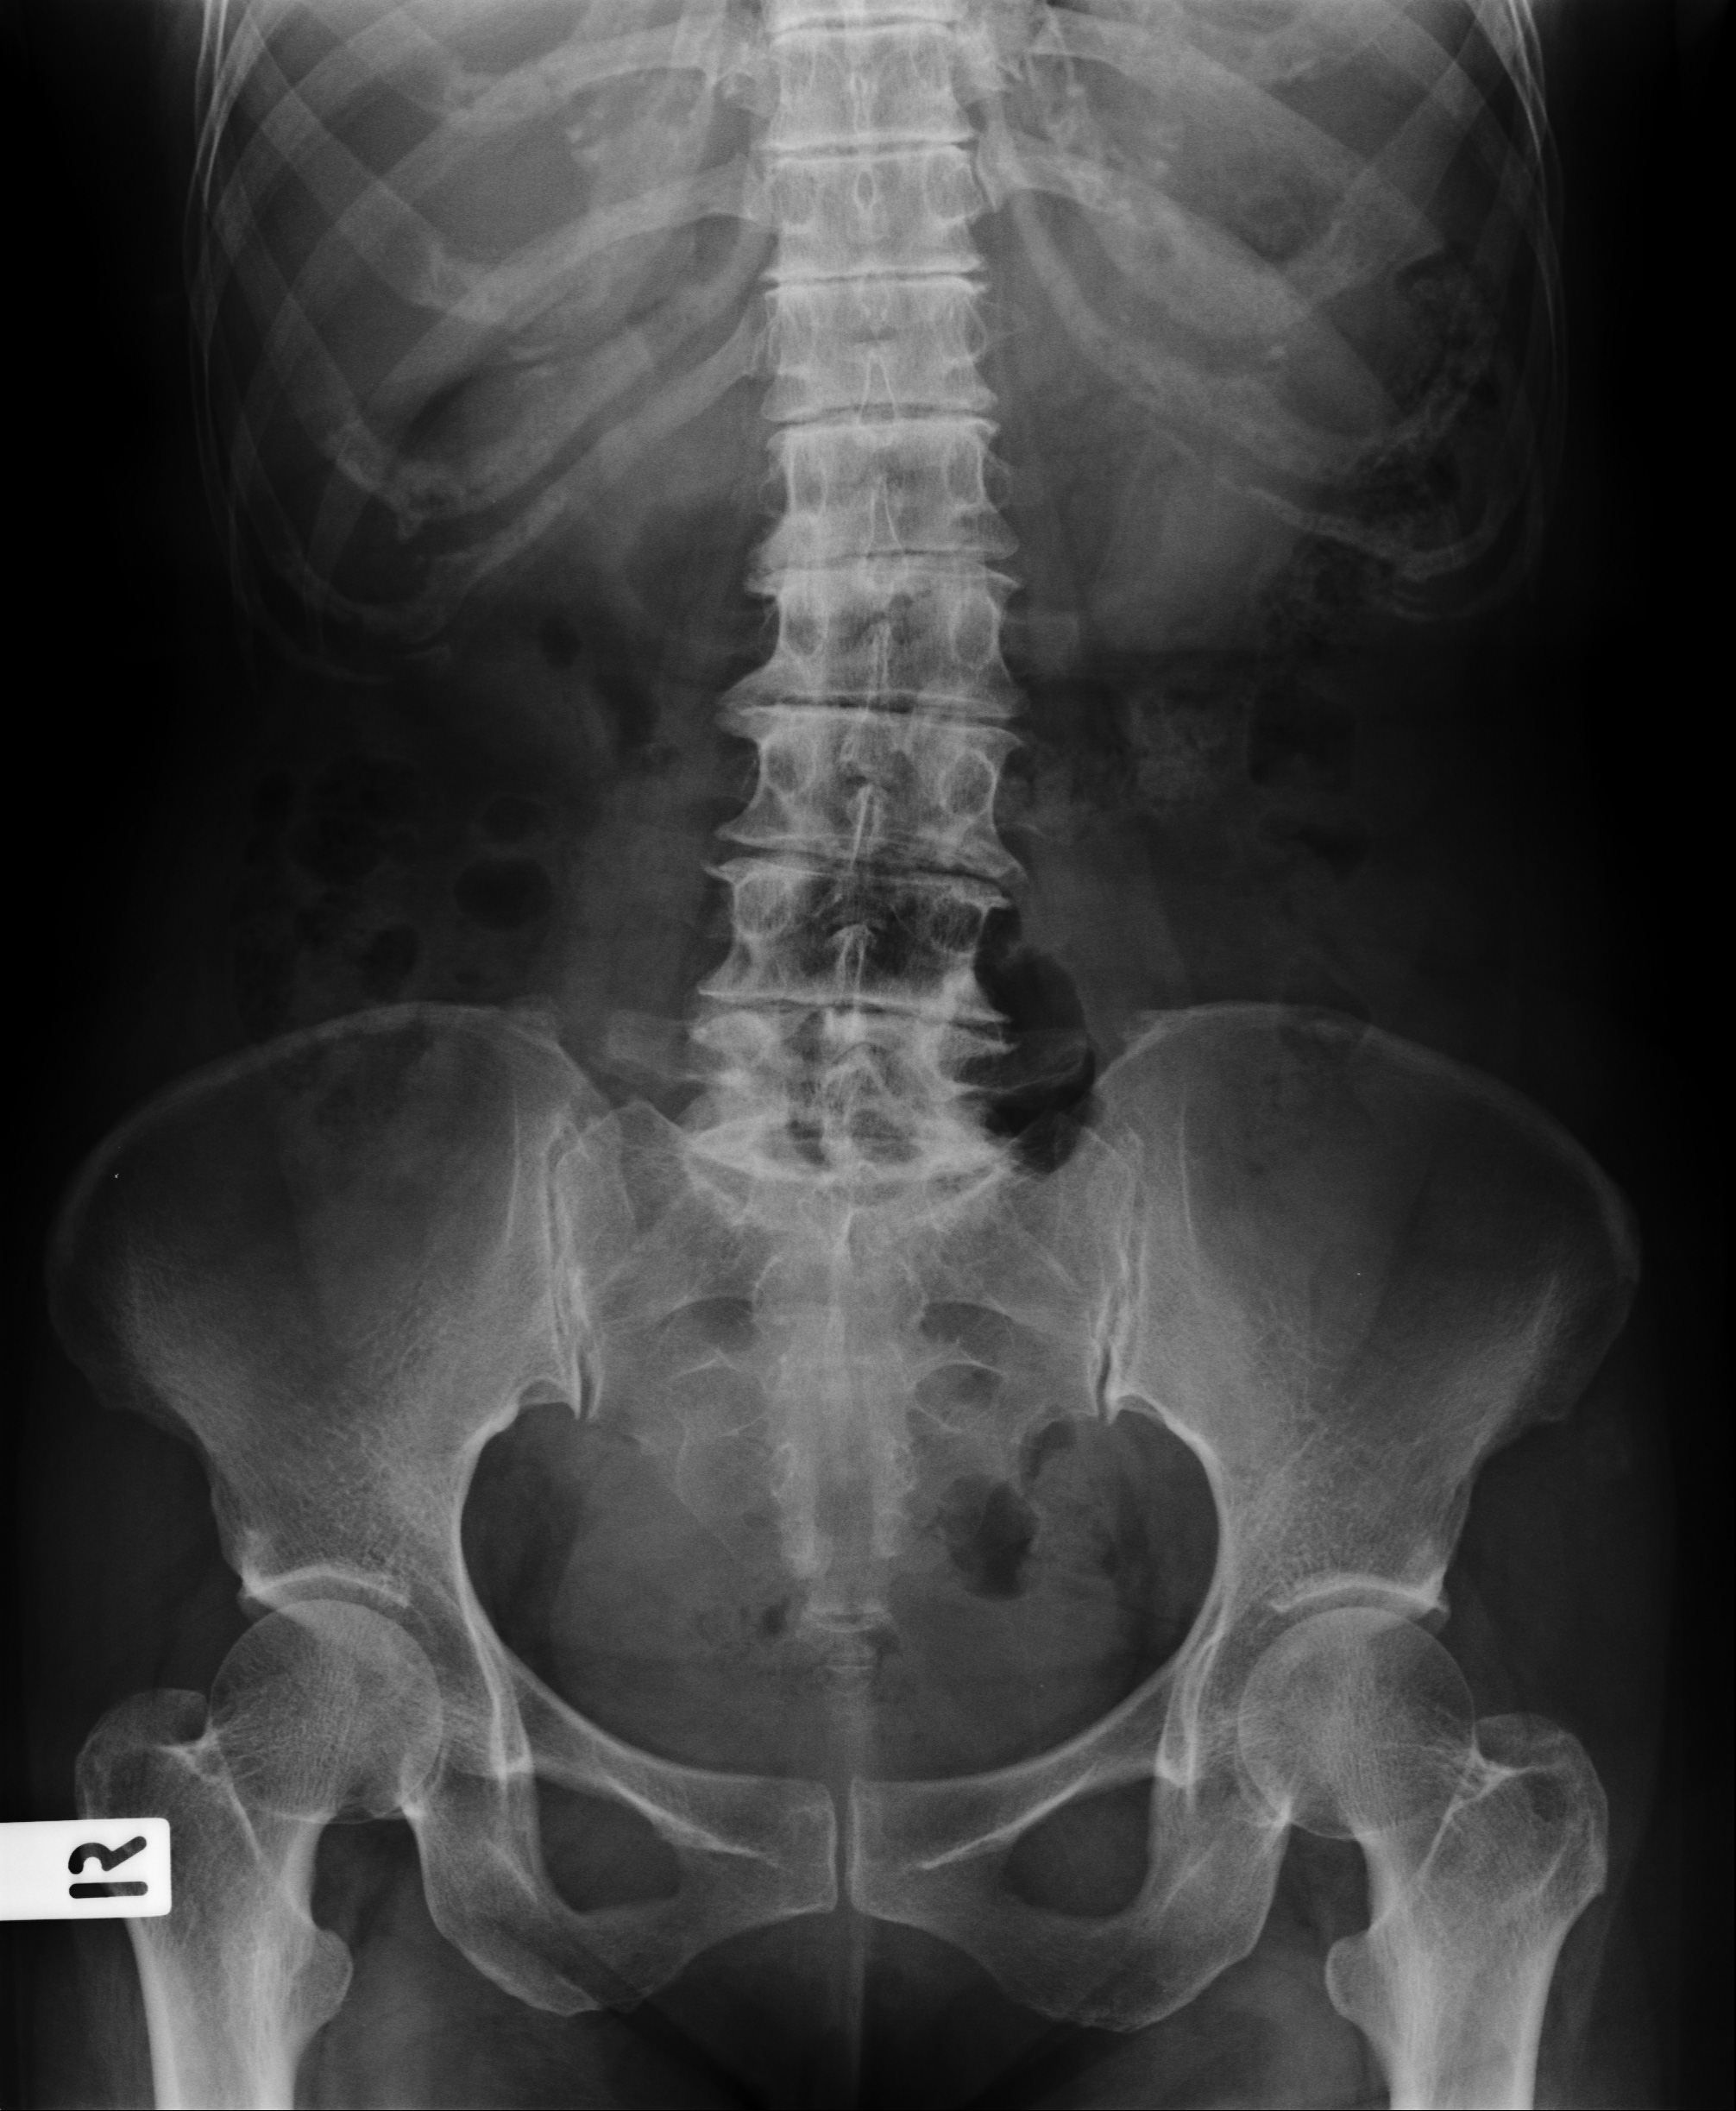lumbar scoliosis: (689, 26, 1021, 1212)
